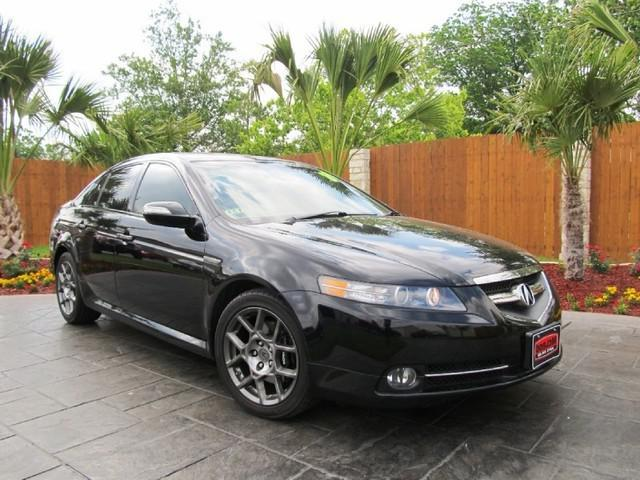Car: (42, 124, 578, 427)
